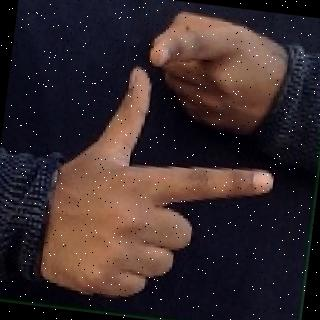J: (28, 1, 300, 300)
